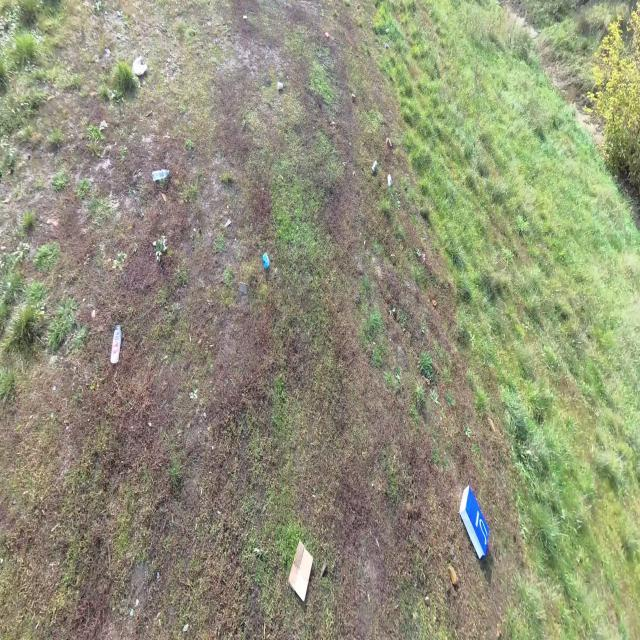rubbish: (458, 484, 489, 562), (287, 538, 314, 603), (110, 324, 123, 365), (132, 53, 149, 77), (151, 168, 170, 181), (261, 251, 270, 270), (371, 160, 378, 175), (386, 172, 393, 187), (386, 136, 393, 148), (277, 79, 284, 90), (351, 92, 356, 101), (324, 31, 330, 38), (385, 43, 390, 50), (386, 26, 390, 33), (243, 14, 248, 18)
